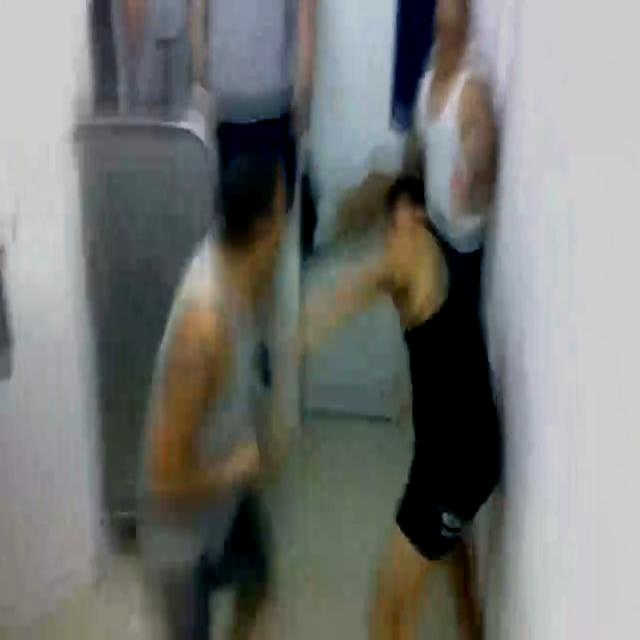fight: (128, 132, 505, 550)
